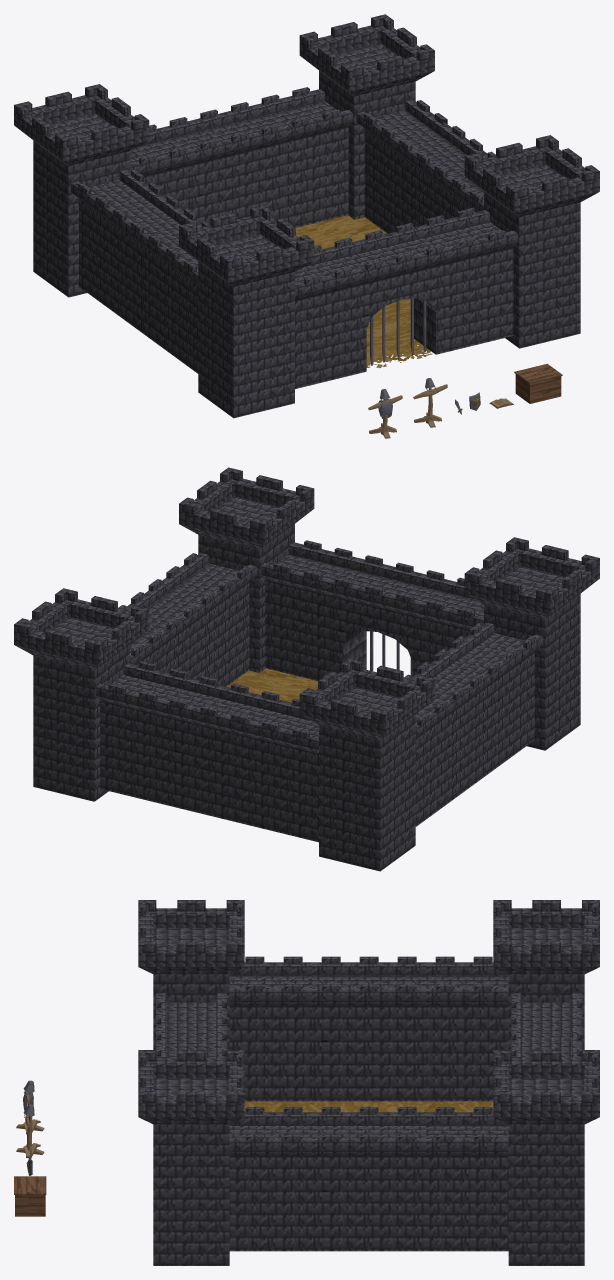
File: CastleCourtyard.fbx
The picture shows the model from 3 angles, top to bottom: view 1: azimuth 30°, elevation 25°; view 2: azimuth 150°, elevation 25°; view 3: azimuth 270°, elevation 25°; orthographic projection. The views are drawn at different scales.
Parts seen in each view (by area): view 1: CourtyardWallA, CourtyardWallC, CourtyardTowerA, CourtyardWallB, CourtyardTowerD, CourtyardTowerB, CourtyardWallD, CourtyardTowerC, CourtyardGround, Table, DummyArmored, Dummy; view 2: CourtyardWallC, CourtyardWallA, CourtyardTowerB, CourtyardWallB, CourtyardTowerC, CourtyardTowerA, CourtyardWallD, CourtyardTowerD, CourtyardGround; view 3: CourtyardWallD, CourtyardWallB, CourtyardTowerD, CourtyardTowerC, CourtyardTowerB, CourtyardTowerA, CourtyardWallC, CourtyardWallA, CourtyardGround, Table, Dummy.
Boxes of the visible parts, <box> form: CourtyardWallA: <box>295,208,518,388</box>; CourtyardWallC: <box>130,87,353,227</box>; CourtyardTowerA: <box>179,205,314,418</box>; CourtyardWallB: <box>70,169,210,373</box>; CourtyardTowerD: <box>464,135,599,348</box>; CourtyardTowerB: <box>14,84,149,297</box>; CourtyardWallD: <box>356,99,495,233</box>; CourtyardTowerC: <box>299,14,434,219</box>; CourtyardGround: <box>296,215,432,368</box>; Table: <box>514,363,562,403</box>; DummyArmored: <box>368,389,402,438</box>; Dummy: <box>413,378,447,427</box>; CourtyardWallC: <box>95,661,318,842</box>; CourtyardWallA: <box>260,540,483,680</box>; CourtyardTowerB: <box>299,658,434,871</box>; CourtyardWallB: <box>403,622,543,826</box>; CourtyardTowerC: <box>14,588,149,801</box>; CourtyardTowerA: <box>464,537,599,750</box>; CourtyardWallD: <box>118,553,257,686</box>; CourtyardTowerD: <box>179,467,314,672</box>; CourtyardGround: <box>227,668,317,702</box>; CourtyardWallD: <box>229,1107,508,1251</box>; CourtyardWallB: <box>229,956,508,1101</box>; CourtyardTowerD: <box>138,1050,244,1265</box>; CourtyardTowerC: <box>493,1050,599,1265</box>; CourtyardTowerB: <box>493,900,599,1049</box>; CourtyardTowerA: <box>138,900,244,1049</box>; CourtyardWallC: <box>511,993,582,1058</box>; CourtyardWallA: <box>156,993,226,1058</box>; CourtyardGround: <box>244,1101,493,1112</box>; Table: <box>14,1176,46,1216</box>; Dummy: <box>16,1104,44,1158</box>.
Size of the model in its own units: 16.99 by 7.19 by 21.56.
